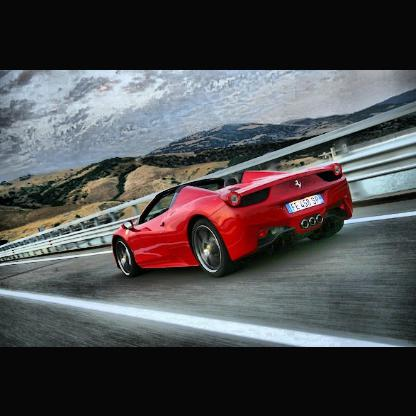Ferrari 458 Italia Convertible 2012: (113, 163, 356, 277)
